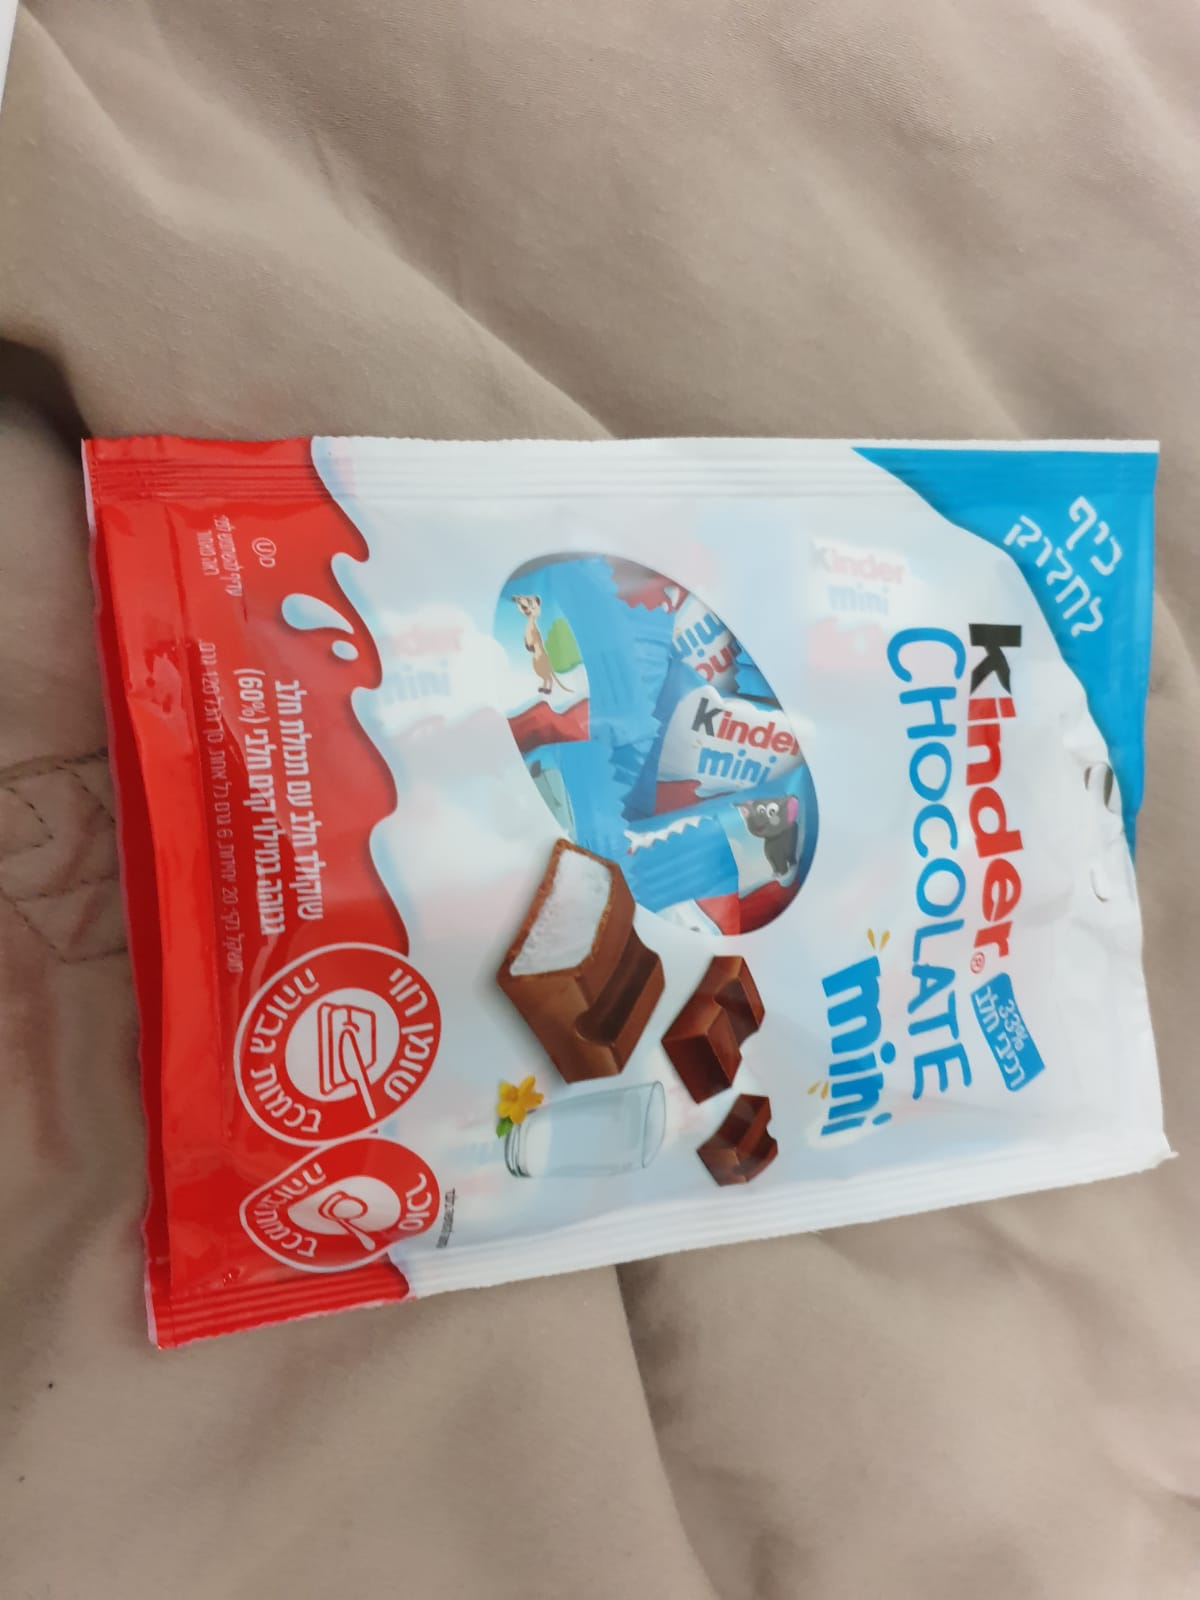fat: (232, 944, 442, 1148)
sugar: (239, 1136, 447, 1281)
